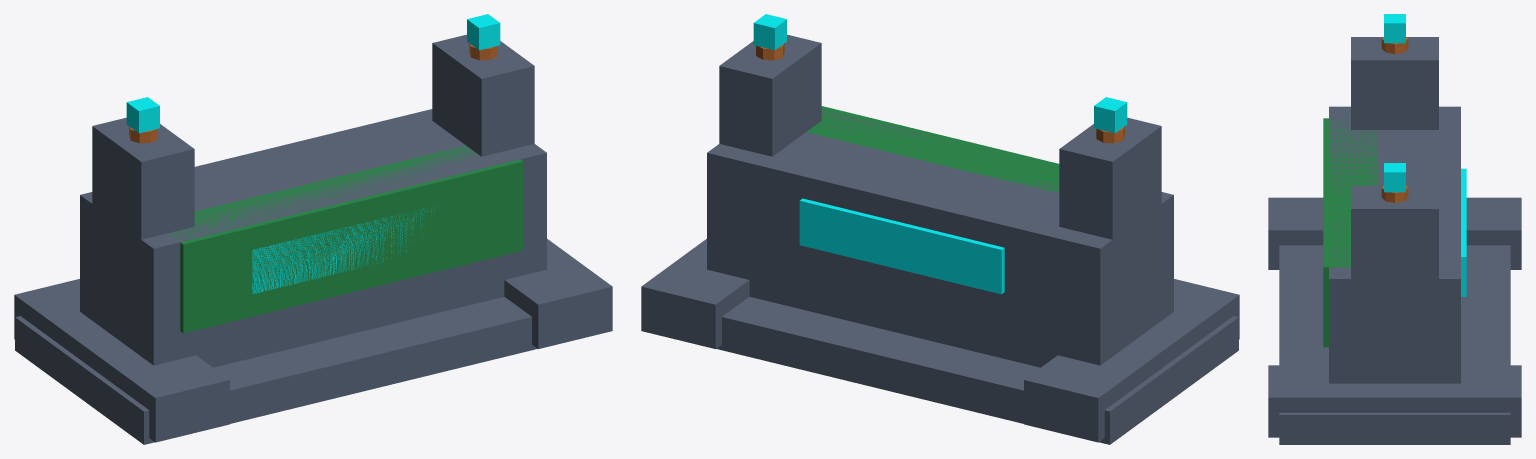
The model's file is wall.obj.
The picture shows the model from 3 angles, left to right: view 1: azimuth 30°, elevation 25°; view 2: azimuth 150°, elevation 25°; view 3: azimuth 270°, elevation 25°; orthographic projection. The views are drawn at different scales.
Parts seen in each view (by area): view 1: ModelMesh; view 2: ModelMesh; view 3: ModelMesh.
Boxes of the visible parts, bbox=[...] form: ModelMesh: bbox=[14, 14, 612, 444]; ModelMesh: bbox=[641, 14, 1239, 444]; ModelMesh: bbox=[1268, 14, 1521, 444].
Size of the model in its own units: 0.88 by 0.5 by 0.46.
